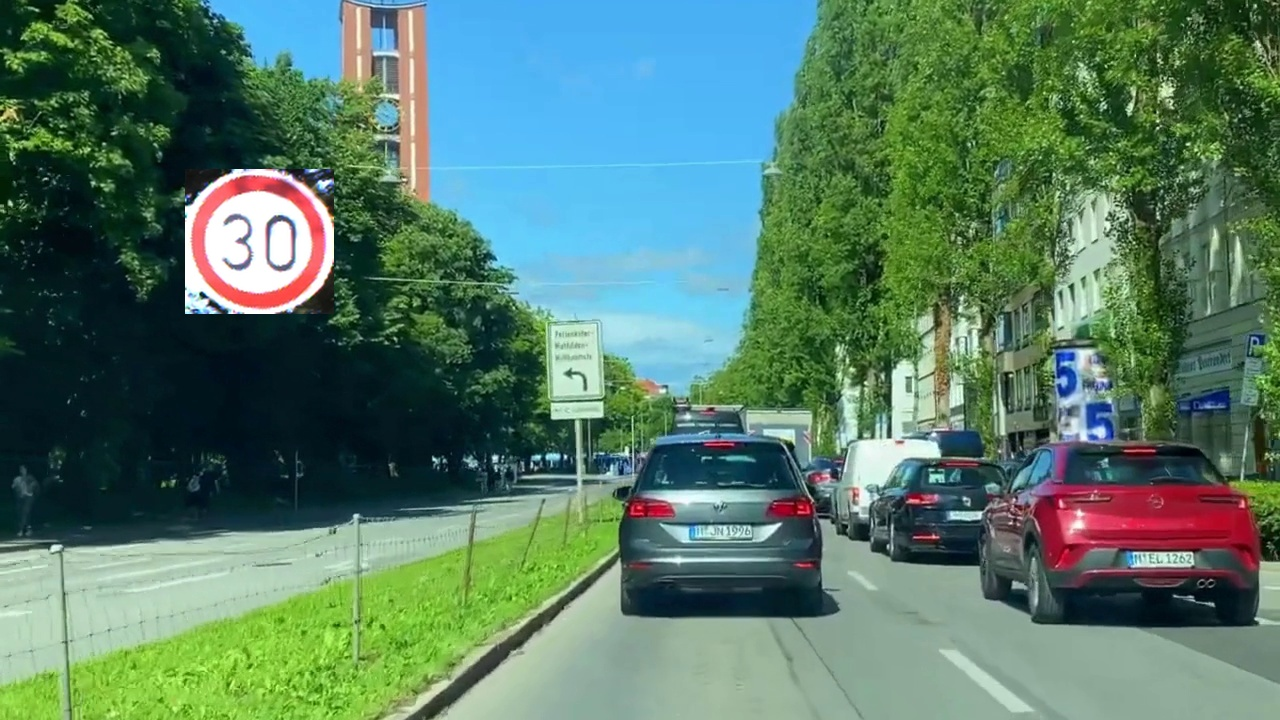Speed 30: (185, 169, 334, 314)
